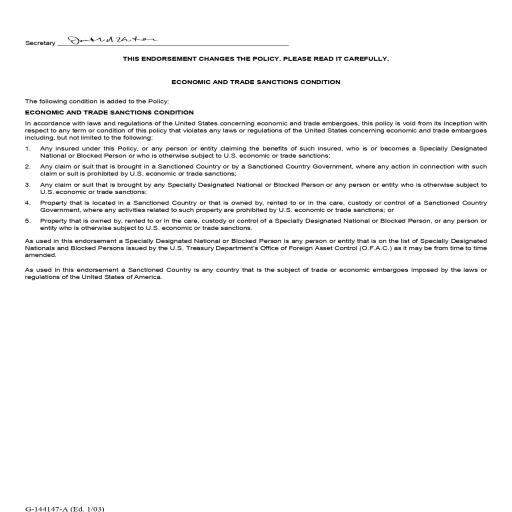Signature: (20, 35, 57, 50)
